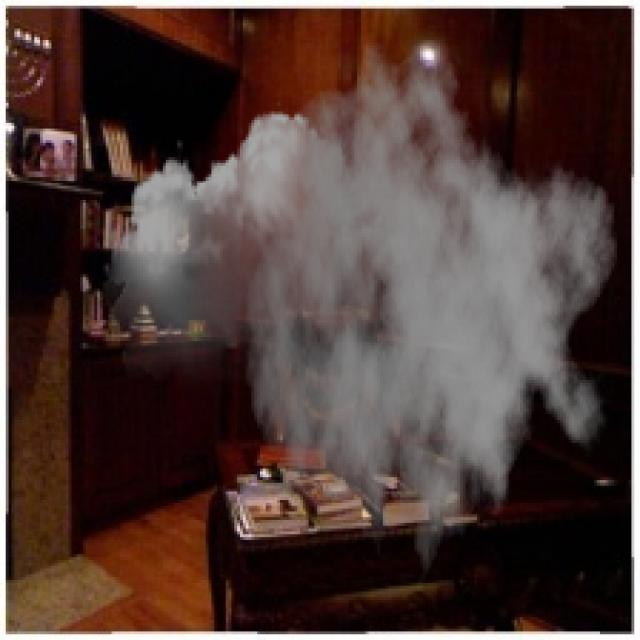smoke: (103, 40, 620, 600)
